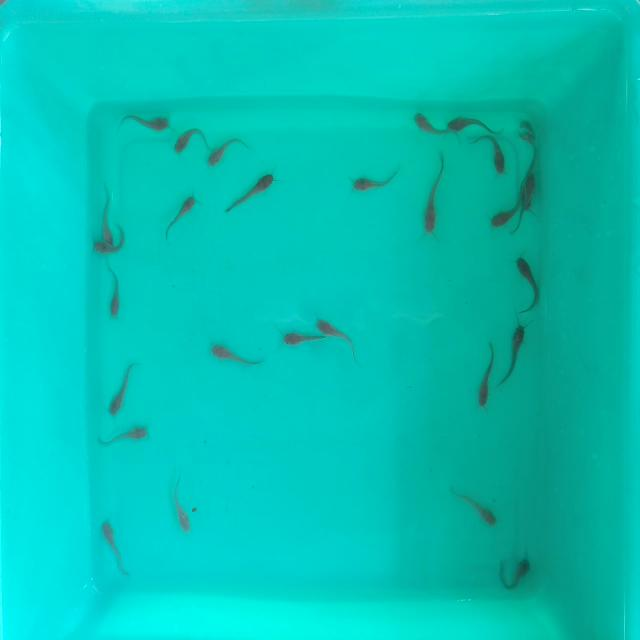lele: (224, 167, 280, 216), (452, 484, 504, 532), (422, 152, 447, 232), (98, 522, 132, 578), (162, 192, 200, 242), (513, 254, 540, 315), (473, 134, 510, 178), (502, 322, 526, 386), (208, 344, 264, 371), (205, 133, 246, 169), (317, 316, 361, 349), (168, 486, 196, 536), (476, 341, 496, 406), (444, 113, 498, 136), (123, 111, 175, 134), (409, 110, 448, 140), (98, 424, 151, 446), (349, 170, 401, 192), (522, 142, 538, 212), (499, 554, 529, 590), (110, 362, 130, 415), (100, 182, 117, 244), (518, 173, 536, 230), (172, 127, 205, 158), (108, 258, 122, 318), (282, 329, 321, 348), (488, 204, 516, 228), (516, 119, 542, 141), (90, 242, 130, 256)
